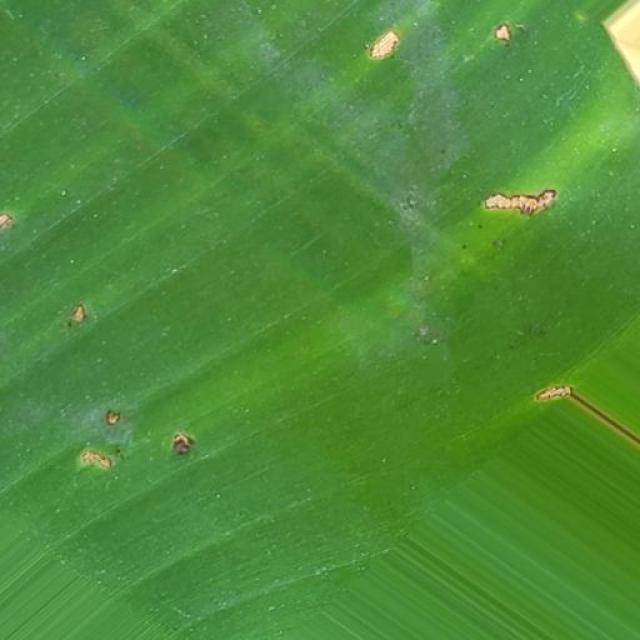Black_rot: (0, 11, 640, 495)
